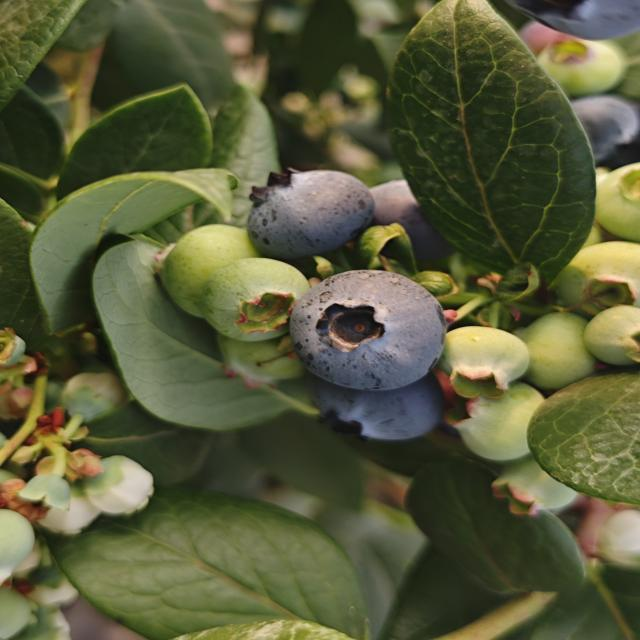ripe: (277, 263, 437, 391), (240, 163, 378, 261), (312, 369, 449, 449), (358, 172, 464, 266), (542, 81, 640, 168), (499, 0, 638, 59)
